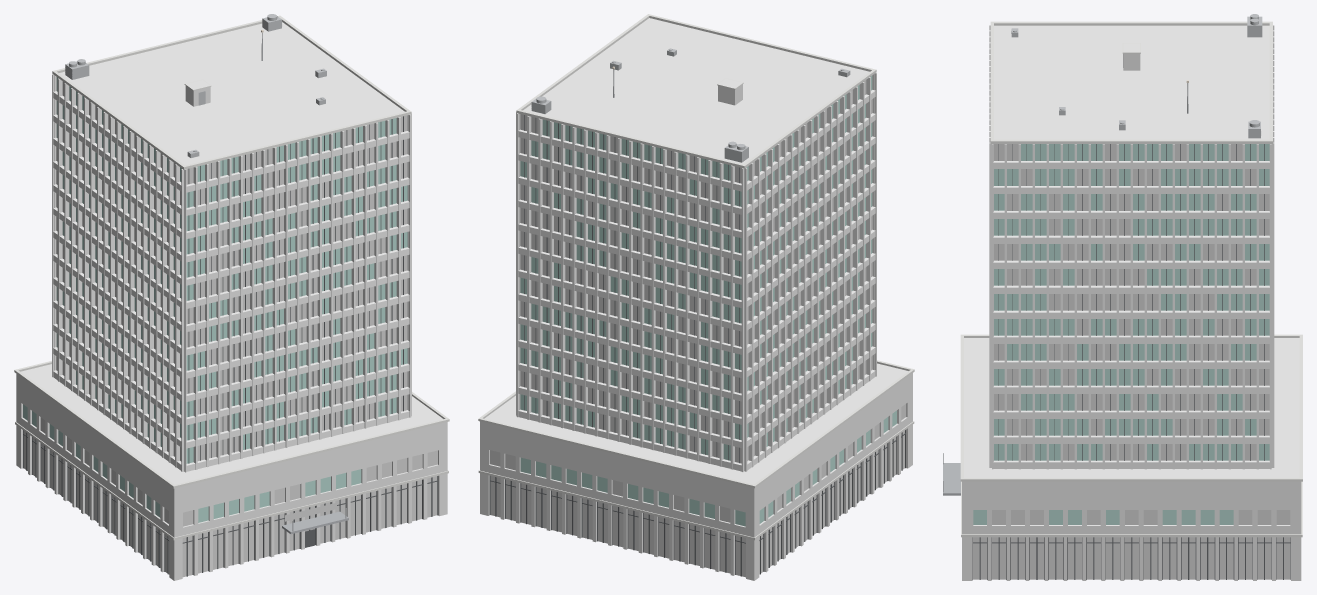
Rendered from tower_p230b.glb.
The picture shows the model from 3 angles, left to right: view 1: azimuth 30°, elevation 25°; view 2: azimuth 150°, elevation 25°; view 3: azimuth 270°, elevation 25°; orthographic projection. The views are drawn at different scales.
Parts seen in each view (by area): view 1: tower_p230b_Walls, tower_p230b_Roof, tower_p230b_WindowsLit, tower_p230b_Walls2, tower_p230b_Glass, tower_p230b_Frames, tower_p230b_Trim, tower_p230b_Details, tower_p230b_Accent; view 2: tower_p230b_Walls, tower_p230b_Roof, tower_p230b_WindowsLit, tower_p230b_Walls2, tower_p230b_Glass, tower_p230b_Frames, tower_p230b_Trim, tower_p230b_Details; view 3: tower_p230b_Walls, tower_p230b_Roof, tower_p230b_WindowsLit, tower_p230b_Glass, tower_p230b_Walls2, tower_p230b_Trim, tower_p230b_Frames, tower_p230b_Details, tower_p230b_Accent.
Boxes of the visible parts, x1=… form: tower_p230b_Walls: x1=52, y1=74, x2=411, y2=472; tower_p230b_Roof: x1=20, y1=22, x2=443, y2=484; tower_p230b_WindowsLit: x1=24, y1=81, x2=437, y2=577; tower_p230b_Walls2: x1=16, y1=86, x2=447, y2=580; tower_p230b_Glass: x1=23, y1=77, x2=407, y2=522; tower_p230b_Frames: x1=23, y1=78, x2=438, y2=576; tower_p230b_Trim: x1=14, y1=15, x2=449, y2=540; tower_p230b_Details: x1=65, y1=14, x2=346, y2=531; tower_p230b_Accent: x1=282, y1=511, x2=348, y2=534; tower_p230b_Walls: x1=516, y1=72, x2=876, y2=471; tower_p230b_Roof: x1=484, y1=18, x2=908, y2=484; tower_p230b_WindowsLit: x1=490, y1=80, x2=905, y2=577; tower_p230b_Walls2: x1=480, y1=84, x2=912, y2=580; tower_p230b_Glass: x1=520, y1=76, x2=896, y2=526; tower_p230b_Frames: x1=489, y1=91, x2=905, y2=576; tower_p230b_Trim: x1=478, y1=14, x2=914, y2=540; tower_p230b_Details: x1=531, y1=48, x2=850, y2=162; tower_p230b_Walls: x1=989, y1=25, x2=1274, y2=469; tower_p230b_Roof: x1=964, y1=25, x2=1299, y2=477; tower_p230b_WindowsLit: x1=973, y1=144, x2=1290, y2=579; tower_p230b_Glass: x1=973, y1=144, x2=1269, y2=524; tower_p230b_Walls2: x1=962, y1=53, x2=1301, y2=580; tower_p230b_Trim: x1=960, y1=21, x2=1302, y2=537; tower_p230b_Frames: x1=972, y1=144, x2=1290, y2=579; tower_p230b_Details: x1=943, y1=14, x2=1262, y2=492; tower_p230b_Accent: x1=943, y1=463, x2=960, y2=495.
Bounding box in the file's own units: 161 × 238 × 170.
